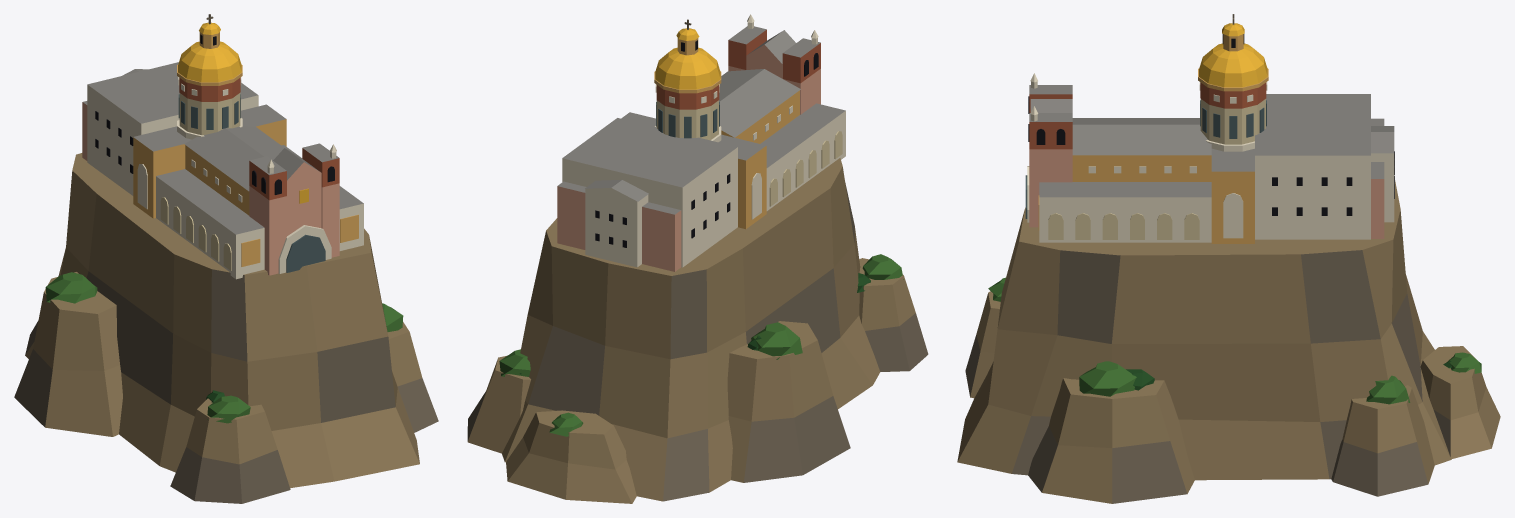
File: tindari.glb
3 views of the same model, side by side, from view 1: azimuth 30°, elevation 25°; view 2: azimuth 150°, elevation 25°; view 3: azimuth 270°, elevation 25° (orthographic). The views are drawn at different scales.
Visible parts, largest first — view 1: POI_tindari; view 2: POI_tindari; view 3: POI_tindari.
Part boxes in pixels (<box>): POI_tindari: <box>14,14,438,503</box>; POI_tindari: <box>467,14,928,503</box>; POI_tindari: <box>957,14,1500,503</box>.
Size of the model in its own units: 121 by 135 by 164.
